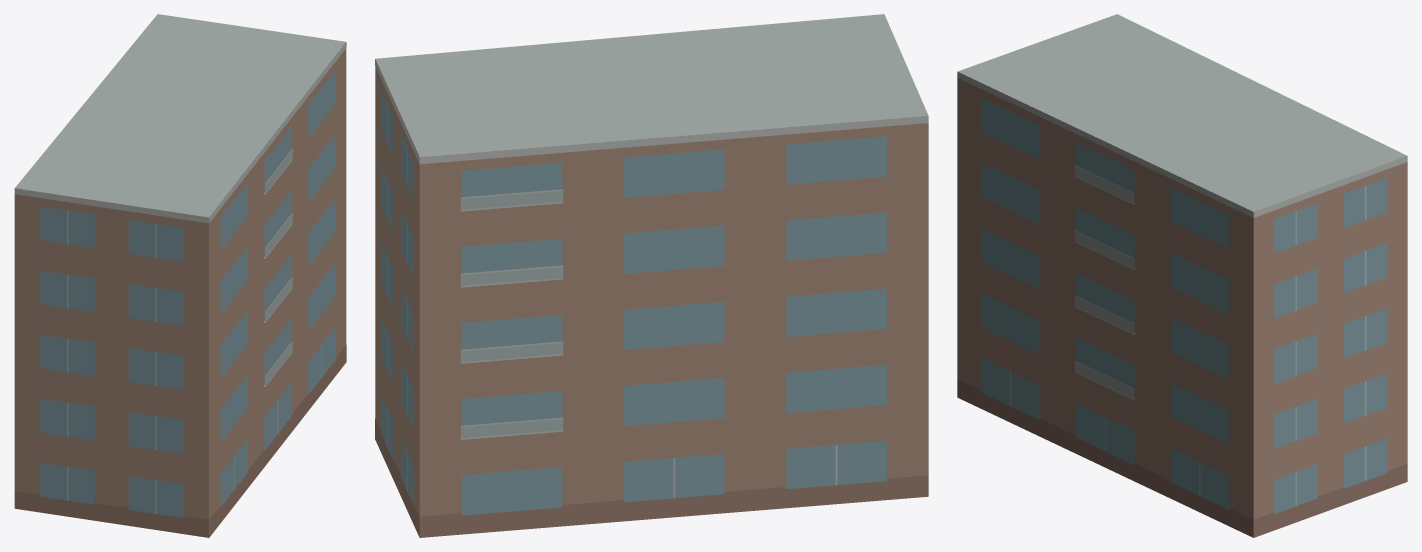
Rendered from survey-upis-33028367.glb.
The picture shows the model from 3 angles, left to right: view 1: azimuth 30°, elevation 25°; view 2: azimuth 150°, elevation 25°; view 3: azimuth 270°, elevation 25°; orthographic projection. The views are drawn at different scales.
Parts seen in each view (by area): view 1: survey-upis-33028367.tmp; view 2: survey-upis-33028367.tmp; view 3: survey-upis-33028367.tmp.
Boxes of the visible parts, bbox=[...] form: survey-upis-33028367.tmp: bbox=[14, 14, 346, 537]; survey-upis-33028367.tmp: bbox=[375, 14, 928, 537]; survey-upis-33028367.tmp: bbox=[957, 14, 1407, 537].
Size of the model in its own units: 17.07 by 13.1 by 16.41.
